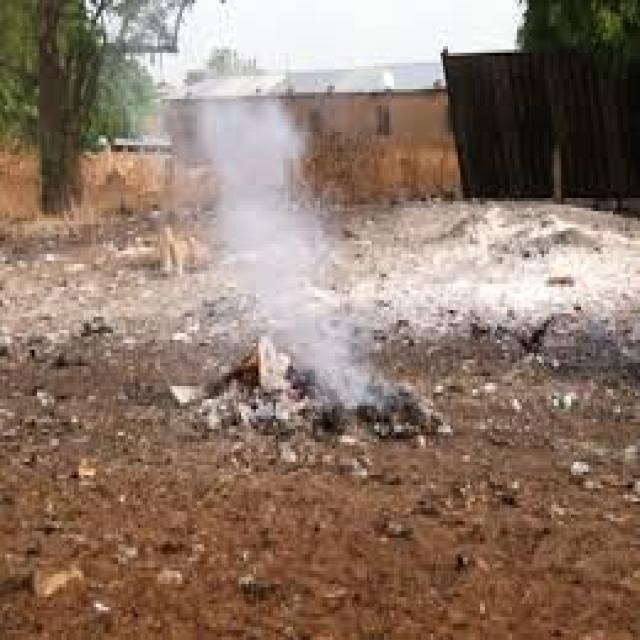Smoke: (193, 95, 395, 414)
